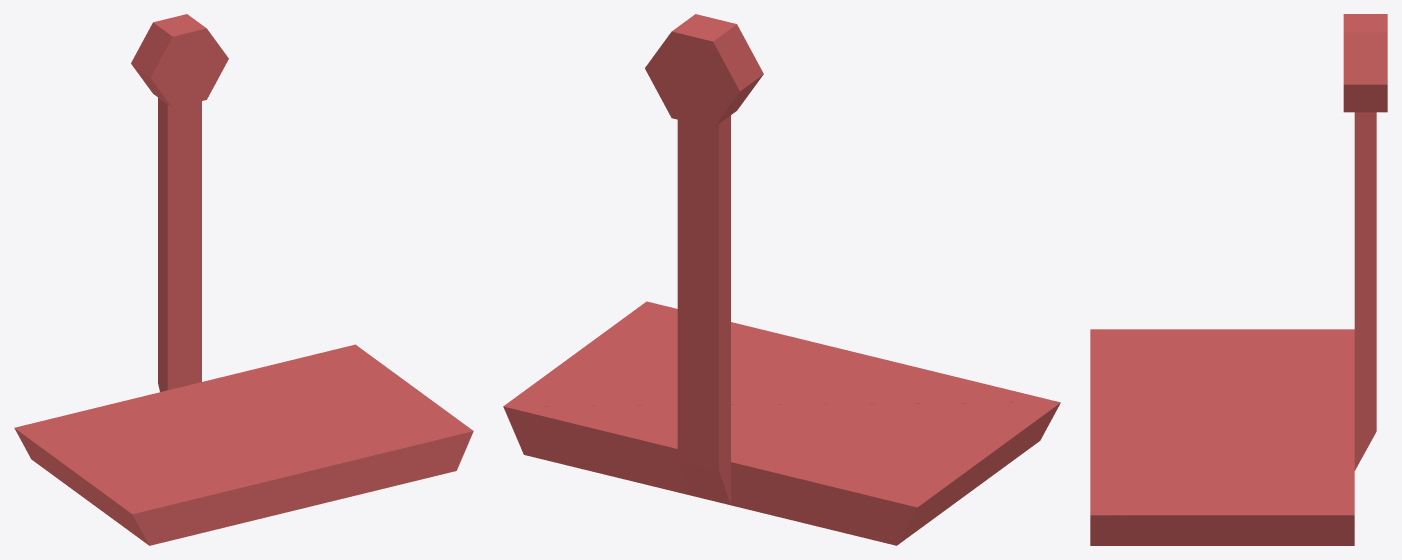
File: objcol_rc_buranko.glb
3 renders of one model, left to right at view 1: azimuth 30°, elevation 25°; view 2: azimuth 150°, elevation 25°; view 3: azimuth 270°, elevation 25°, orthographic. The views are drawn at different scales.
Parts seen in each view (by area): view 1: rc_buranko_col; view 2: rc_buranko_col; view 3: rc_buranko_col.
Part boxes in pixels (box(x1,y1,x2,y2)): rc_buranko_col: box(14, 14, 473, 545); rc_buranko_col: box(503, 14, 1060, 545); rc_buranko_col: box(1090, 14, 1387, 545).
Bounding box in the file's own units: 1 × 1.1 × 0.6751.
